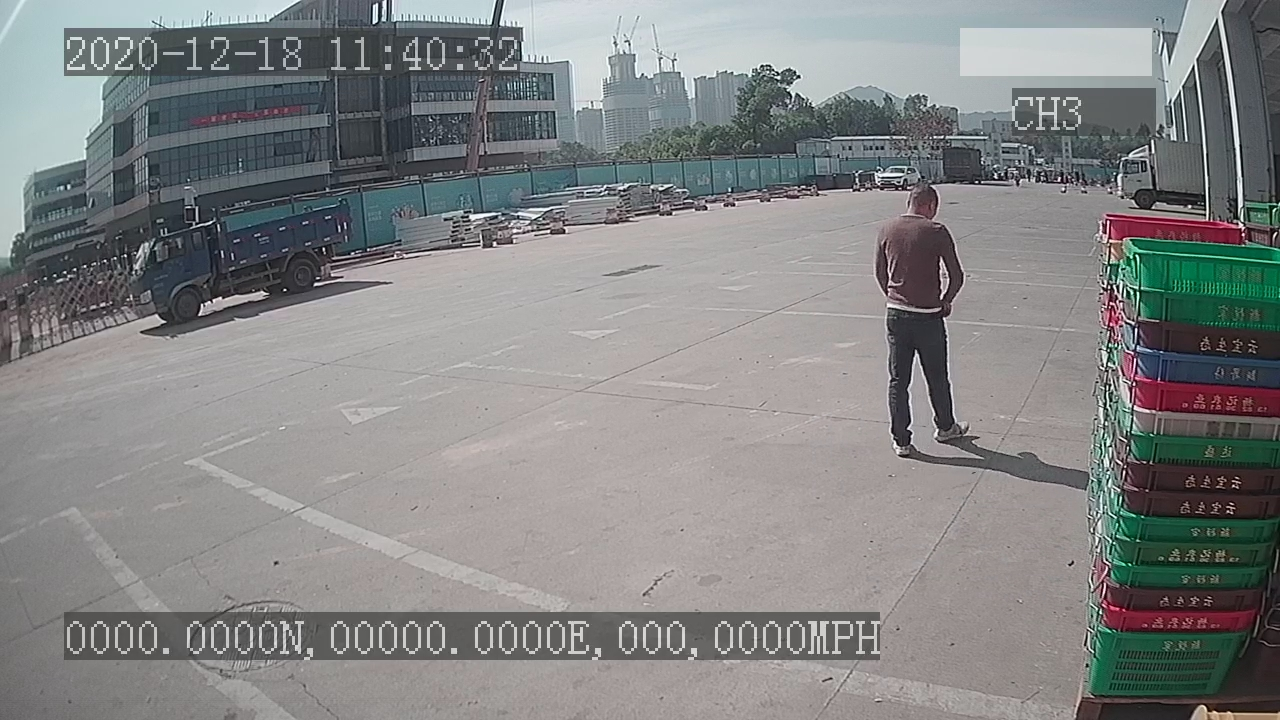person: (874, 184, 970, 458)
